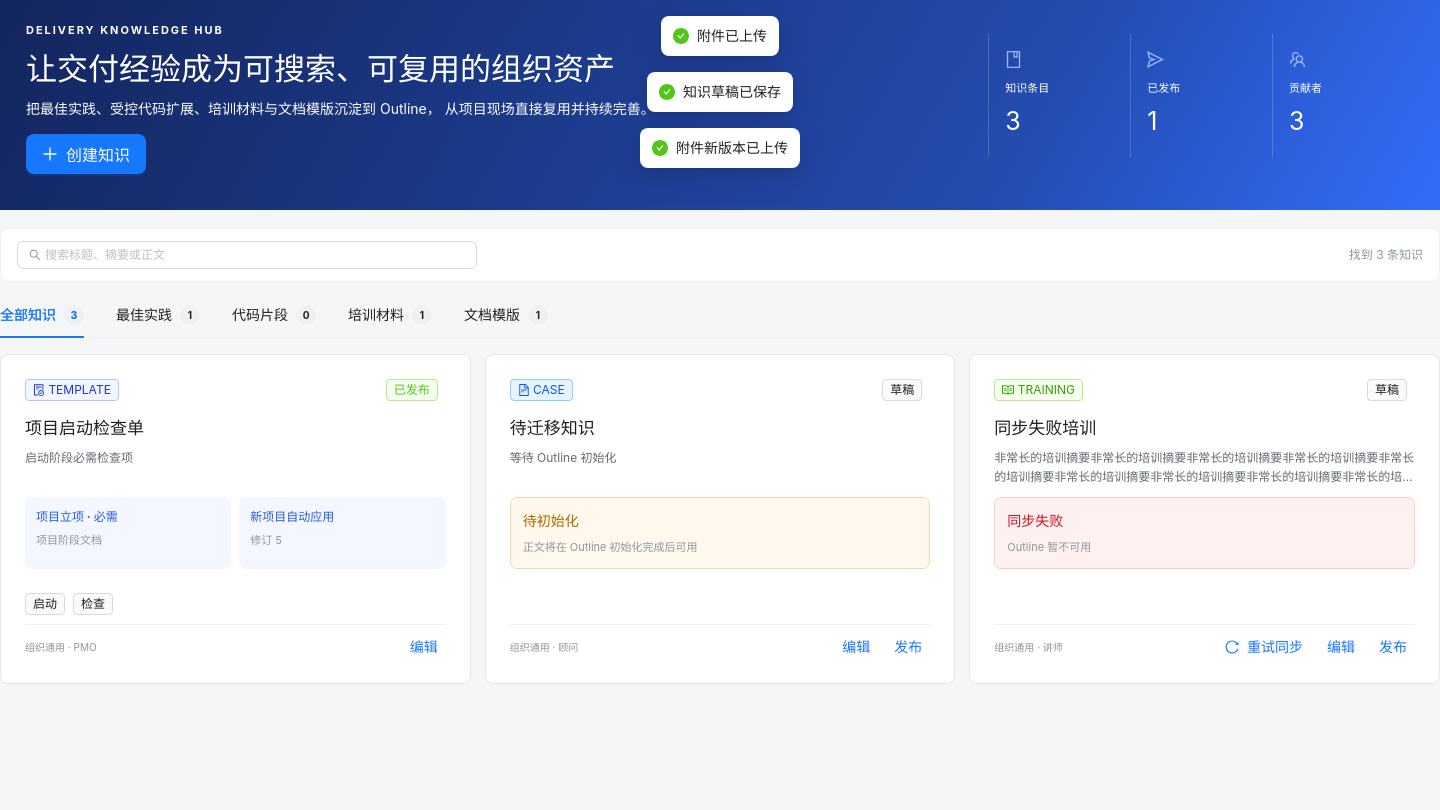
Test: 展示文档模版并从卡片进入 Outline 文档工作区
expect the text "文档模版" is shown: met, box top-left (464, 306), bottom-right (520, 323)
expect the text "项目立项 · 必需" is shown: met, box top-left (36, 509), bottom-right (118, 524)
Click the heading "项目启动检查单".
click(84, 428)  # box top-left (25, 418), bottom-right (144, 438)
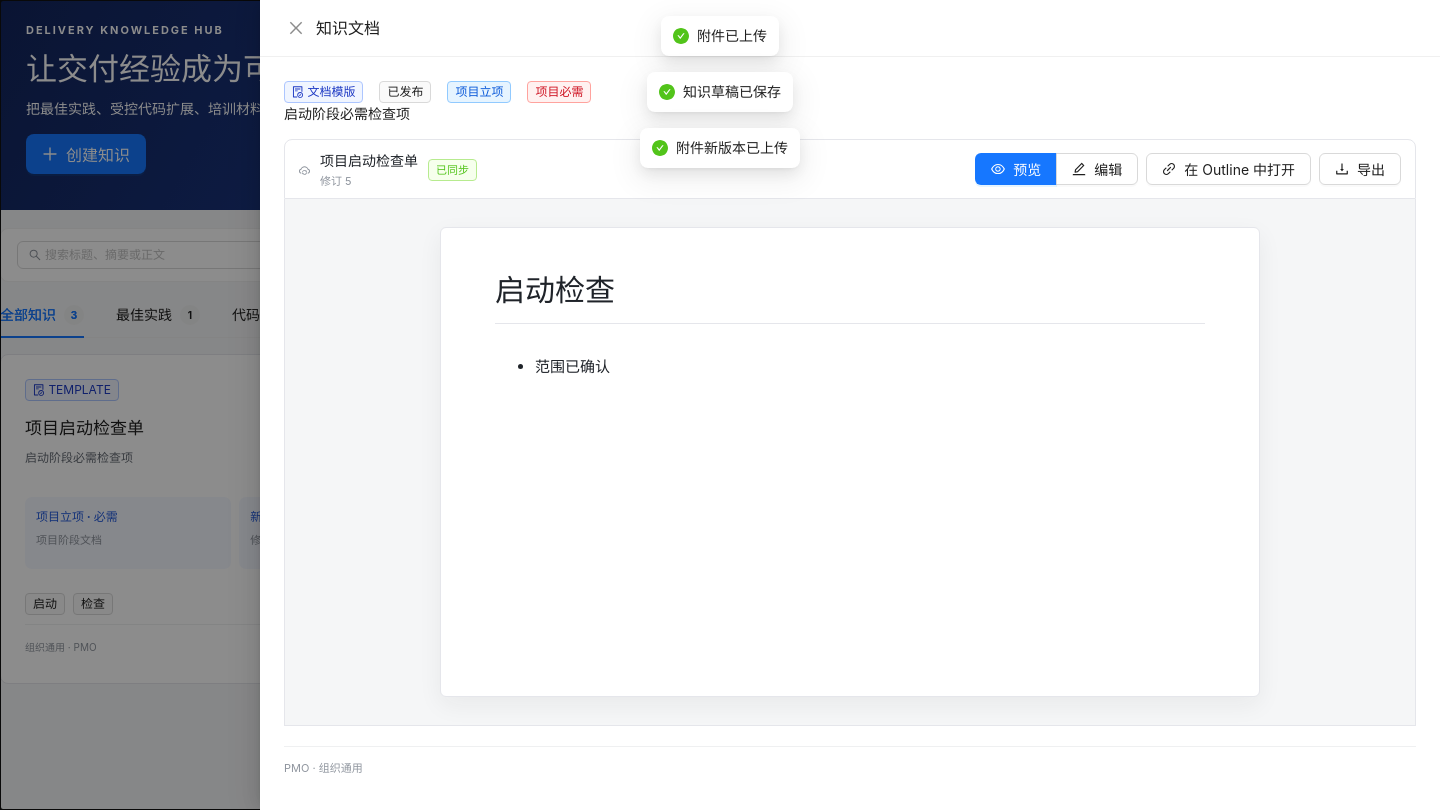
expect the list item "范围已确认" is shown: met, box top-left (535, 356), bottom-right (610, 376)
